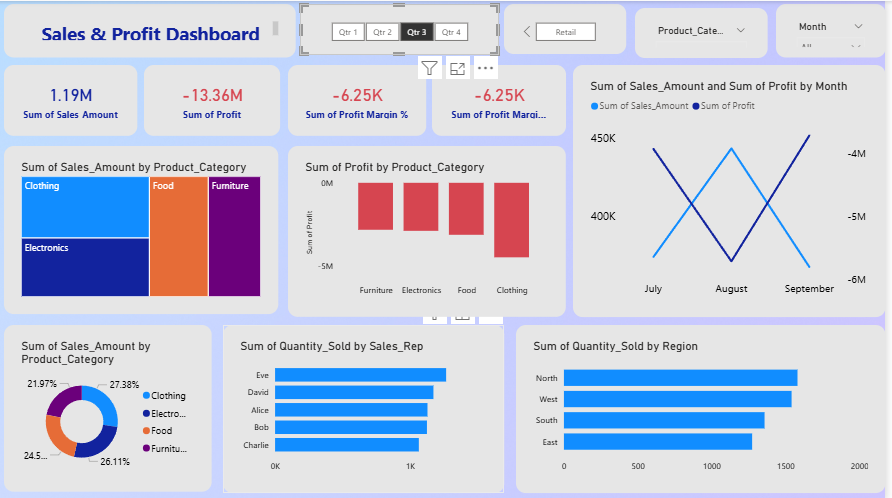

Layout of this report page (visuals, bound fields, positions):
{"tool":"powerbi","page":{"name":"Page 1","canvas":[1280,720],"ordinal":0},"visuals":[{"type":"lineChart","fields":{"Category":["sales_data.Sale_Date.Variation.Date Hierarchy.Month"],"Y":["Sum(sales_data.Sales_Amount)"],"Y2":["Sum(sales_data.Profit)"]},"box":[829.8,92.4,450.2,362.8],"z":0},{"type":"clusteredBarChart","fields":{"Category":["sales_data.Region"],"Y":["Sum(sales_data.Quantity_Sold)"]},"box":[747.5,467,532.5,241.9],"z":1000},{"type":"clusteredBarChart","fields":{"Category":["sales_data.Sales_Rep"],"Y":["Sum(sales_data.Quantity_Sold)"]},"box":[325.9,467,404.8,241.9],"z":2000},{"type":"donutChart","fields":{"Category":["sales_data.Product_Category"],"Y":["Sum(sales_data.Sales_Amount)"]},"box":[10.1,467,299,240.2],"z":3000},{"type":"clusteredColumnChart","fields":{"Category":["sales_data.Product_Category"],"Y":["Sum(sales_data.Profit)"]},"box":[419,208.8,400.3,246.2],"z":4000},{"type":"textbox","box":[10.1,5,419.9,77.3],"z":5000},{"type":"card","fields":{"Values":["Sum(sales_data.Sales_Amount)"]},"box":[10.1,92.2,191.5,102.2],"z":6000},{"type":"card","fields":{"Values":["Sum(sales_data.Profit)"]},"box":[211.7,92.2,195.8,102.2],"z":7000},{"type":"card","fields":{"Values":["Sum(sales_data.Profit Margin %)"]},"box":[419,92.2,198.7,102.2],"z":8000},{"type":"card","fields":{"Values":["Sum(sales_data.Profit Margin %)"]},"box":[626.4,92.2,193,102.2],"z":9000},{"type":"slicer","fields":{"Values":["sales_data.Sale_Date.Variation.Date Hierarchy.Quarter"]},"box":[436.7,5,285.6,72.2],"z":10000},{"type":"slicer","fields":{"Values":["sales_data.Sale_Date.Variation.Date Hierarchy.Month"]},"box":[1122.1,5,157.9,77.3],"z":11000},{"type":"slicer","fields":{"Values":["sales_data.Product_Category"]},"box":[918.8,10.1,191.5,72.2],"z":11001},{"type":"slicer","fields":{"Values":["sales_data.Sales_Channel"]},"box":[730.7,5,176.4,72.2],"z":11002},{"type":"treemap","fields":{"Group":["sales_data.Product_Category"],"Values":["Sum(sales_data.Sales_Amount)"]},"box":[10.1,208.3,394.8,241.9],"z":11003}]}

Visuals, with their boxes on the page's 1280x720 design canvas (x1, y1, x2, y2). These are canvas units, not pixel positions in the 892x498 screenshot, which may show the page scaled, cropped or inside an application window:
lineChart - sales_data.Sale_Date.Variation.Date Hierarchy.Month x Sum(sales_data.Sales_Amount): {"left": 830, "top": 92, "right": 1280, "bottom": 455}
clusteredBarChart - sales_data.Region x Sum(sales_data.Quantity_Sold): {"left": 748, "top": 467, "right": 1280, "bottom": 709}
clusteredBarChart - sales_data.Sales_Rep x Sum(sales_data.Quantity_Sold): {"left": 326, "top": 467, "right": 731, "bottom": 709}
donutChart - sales_data.Product_Category x Sum(sales_data.Sales_Amount): {"left": 10, "top": 467, "right": 309, "bottom": 707}
clusteredColumnChart - sales_data.Product_Category x Sum(sales_data.Profit): {"left": 419, "top": 209, "right": 819, "bottom": 455}
textbox: {"left": 10, "top": 5, "right": 430, "bottom": 82}
card - Sum(sales_data.Sales_Amount): {"left": 10, "top": 92, "right": 202, "bottom": 194}
card - Sum(sales_data.Profit): {"left": 212, "top": 92, "right": 408, "bottom": 194}
card - Sum(sales_data.Profit Margin %): {"left": 419, "top": 92, "right": 618, "bottom": 194}
card - Sum(sales_data.Profit Margin %): {"left": 626, "top": 92, "right": 819, "bottom": 194}
slicer - sales_data.Sale_Date.Variation.Date Hierarchy.Quarter: {"left": 437, "top": 5, "right": 722, "bottom": 77}
slicer - sales_data.Sale_Date.Variation.Date Hierarchy.Month: {"left": 1122, "top": 5, "right": 1280, "bottom": 82}
slicer - sales_data.Product_Category: {"left": 919, "top": 10, "right": 1110, "bottom": 82}
slicer - sales_data.Sales_Channel: {"left": 731, "top": 5, "right": 907, "bottom": 77}
treemap - sales_data.Product_Category x Sum(sales_data.Sales_Amount): {"left": 10, "top": 208, "right": 405, "bottom": 450}
